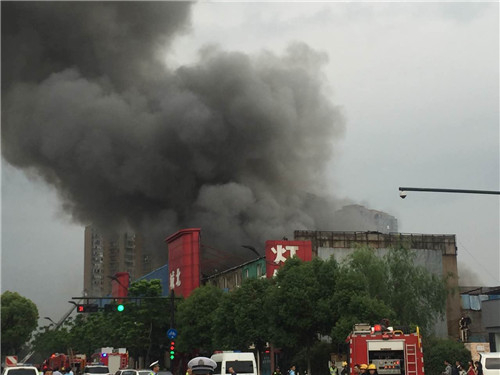smoke: (10, 11, 335, 221)
